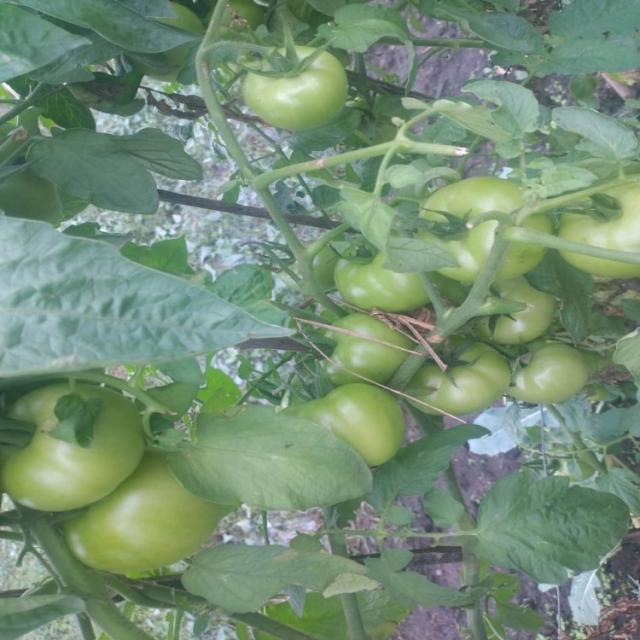tomato: (68, 452, 222, 587), (1, 373, 142, 505), (417, 174, 548, 279), (300, 376, 407, 464), (559, 186, 640, 279), (319, 305, 413, 385), (337, 234, 429, 312), (250, 43, 334, 127), (406, 347, 511, 414), (515, 347, 585, 405), (481, 288, 547, 349), (1, 161, 59, 225)
